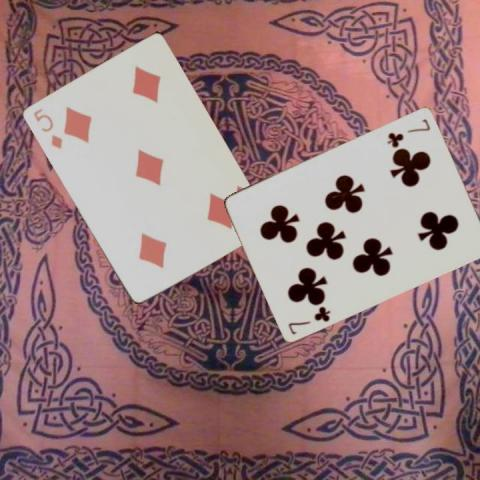5d: (30, 104, 63, 150)
7c: (285, 303, 332, 336), (384, 116, 432, 148)
